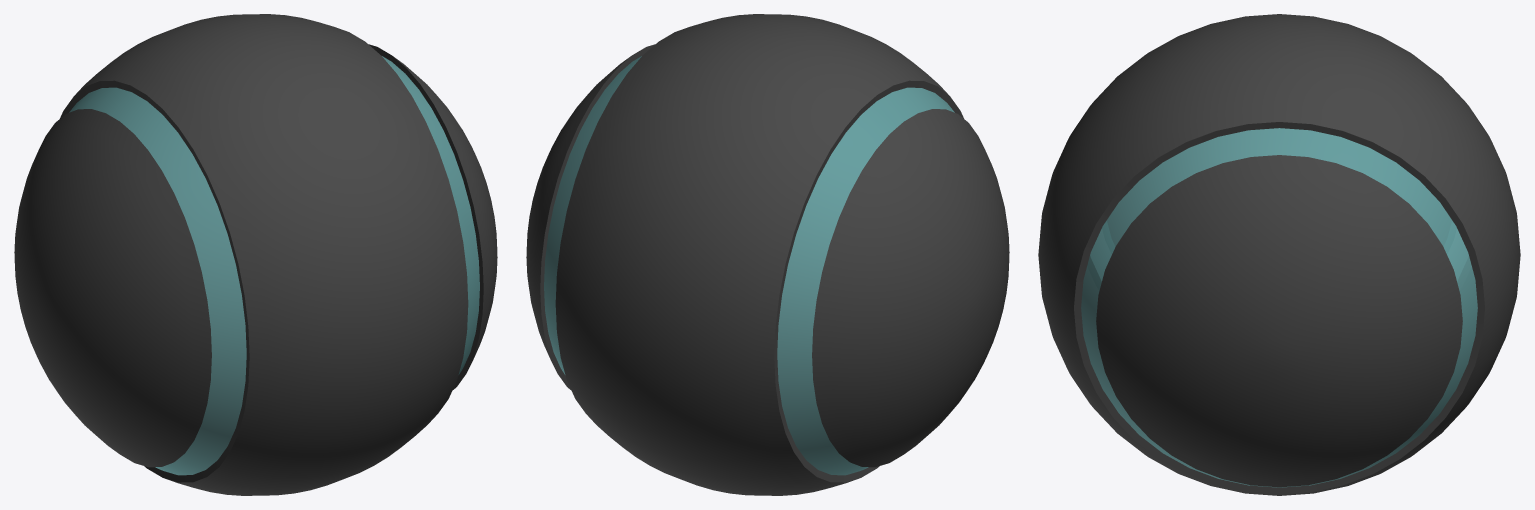
File: blue_orb.fbx
The picture shows the model from 3 angles, left to right: view 1: azimuth 30°, elevation 25°; view 2: azimuth 150°, elevation 25°; view 3: azimuth 270°, elevation 25°; orthographic projection.
Parts seen in each view (by area): view 1: blue_orb; view 2: blue_orb; view 3: blue_orb.
Part boxes in pixels (x1,y1,x2,y2): blue_orb: (14,14,497,495); blue_orb: (526,14,1009,495); blue_orb: (1038,14,1520,495).
Bounding box in the file's own units: 2.09 × 2.09 × 2.09.
